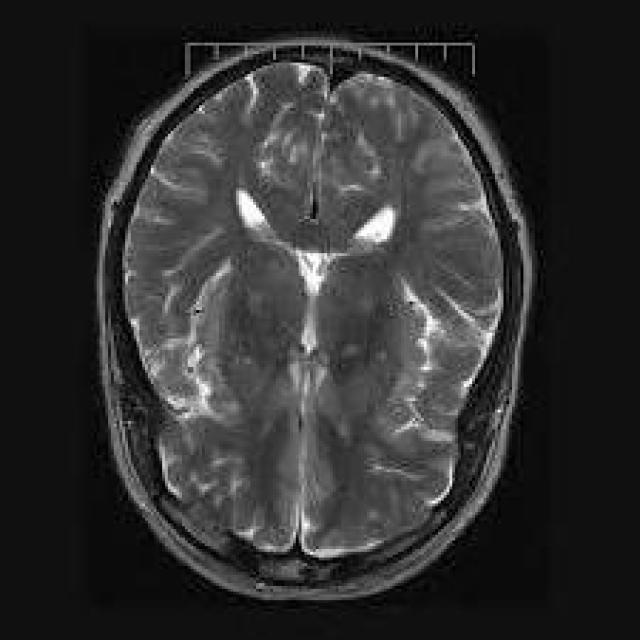notumor: (97, 43, 532, 594)
